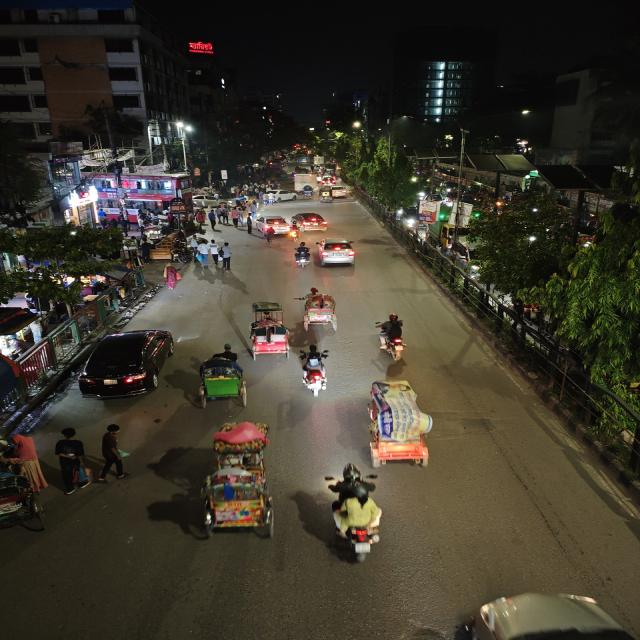bus: (418, 199, 450, 223)
car: (74, 324, 178, 400), (313, 236, 359, 270), (290, 211, 330, 231), (260, 214, 290, 234), (274, 190, 297, 203), (330, 186, 351, 200)
cng: (318, 188, 333, 204)
motorcycle: (318, 462, 399, 566), (371, 311, 411, 362), (297, 344, 332, 398), (289, 241, 312, 269), (260, 221, 276, 244)
pedestrian: (52, 427, 91, 493), (96, 422, 130, 484), (0, 427, 41, 477), (218, 240, 237, 272), (160, 262, 180, 292), (195, 240, 214, 271), (244, 213, 256, 235)
rickshaw: (194, 420, 281, 540), (361, 378, 448, 472), (189, 346, 253, 409), (0, 463, 44, 537), (242, 299, 293, 361), (298, 286, 343, 334), (302, 187, 315, 199)
truck: (294, 174, 316, 190)
